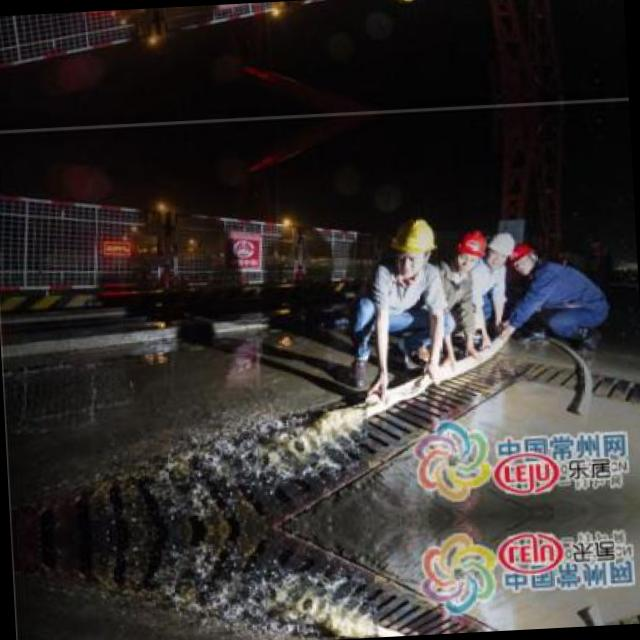helmet: (393, 214, 437, 284), (457, 229, 488, 269), (486, 229, 516, 269), (506, 238, 534, 276)
